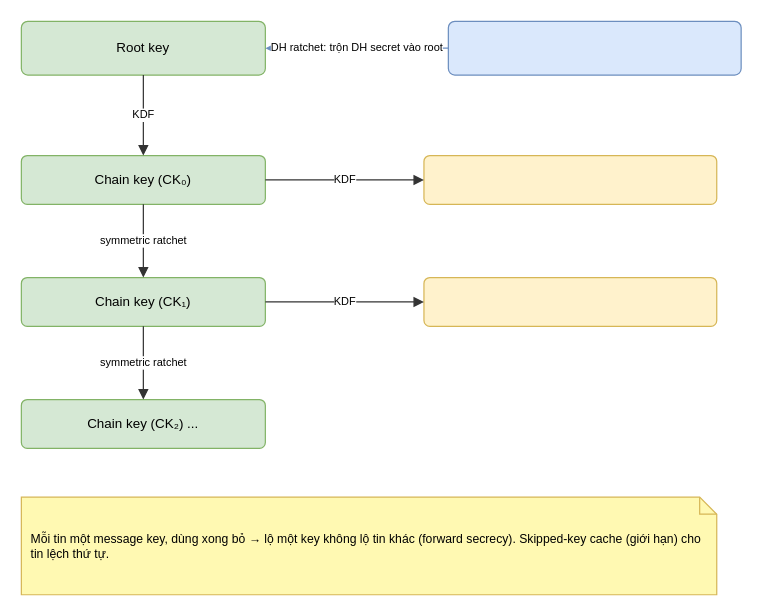
Some shapes in this 763 by 616 pixel diagram are drawn without their labels. Each missing label, with the box of its shape:
Message key #1 (dùng 1 lần): (423, 154, 717, 204)
Message key #2 (dùng 1 lần): (423, 276, 717, 326)
Ratchet public key mới của peer: (447, 20, 741, 75)
